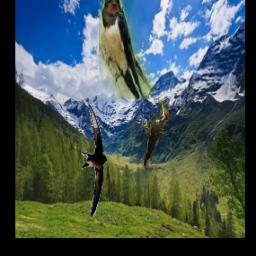Swallow: (100, 0, 154, 100), (82, 103, 108, 216)
Woodpecker: (140, 100, 169, 171)
